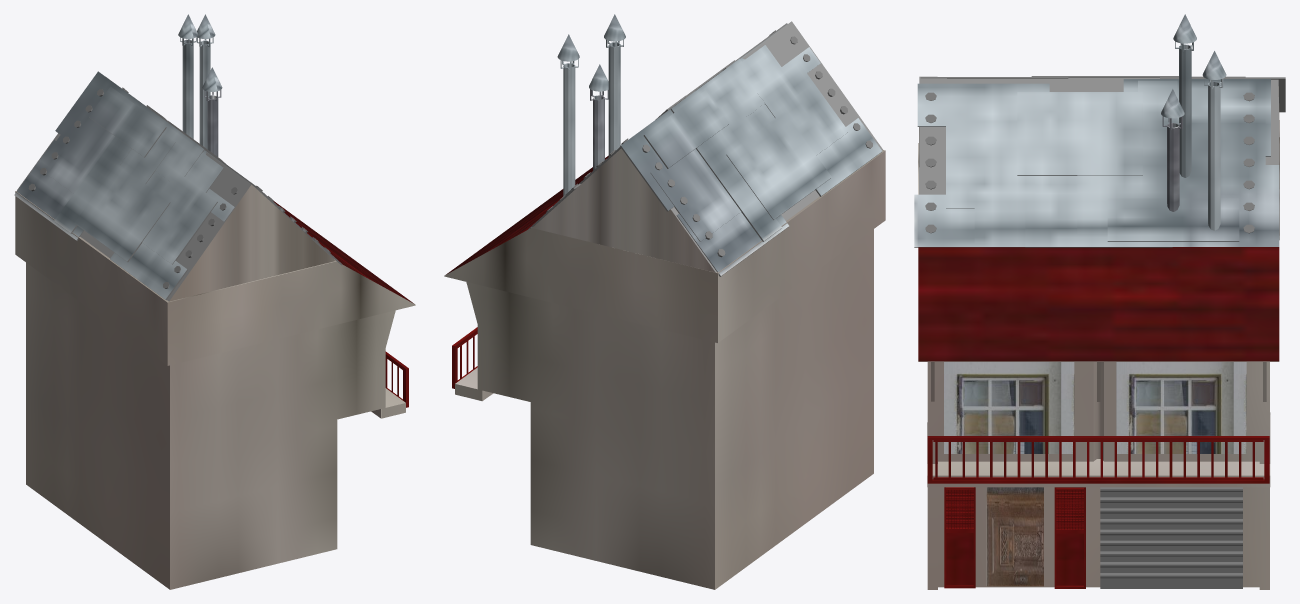
Rendered from Chineeshuis Rood.obj.
3 views of the same model, side by side, from view 1: azimuth 30°, elevation 25°; view 2: azimuth 150°, elevation 25°; view 3: azimuth 270°, elevation 25° (orthographic). The views are drawn at different scales.
Visible parts, largest first — view 1: pCube36, pCylinder336, polySurface245, polySurface246, polySurface242 pCylinder322, pCube37; view 2: pCube36, pCylinder336, polySurface246, polySurface245, polySurface242 pCylinder322, pCube37; view 3: pCube36, pCylinder336, pCube49, pPlane2, pPlane1, pCube37, pPlane3, polySurface249, polySurface253, polySurface246, polySurface245, polySurface242 pCylinder322.
Boxes of the visible parts, x1,y1,x2,y2 form: pCube36: [15, 191, 415, 589]; pCylinder336: [14, 71, 342, 301]; polySurface245: [180, 37, 196, 138]; polySurface246: [197, 37, 213, 148]; polySurface242 pCylinder322: [204, 90, 221, 156]; pCube37: [385, 351, 408, 407]; pCube36: [444, 150, 885, 589]; pCylinder336: [528, 21, 882, 276]; polySurface246: [560, 59, 578, 196]; polySurface245: [606, 39, 623, 156]; polySurface242 pCylinder322: [590, 89, 608, 170]; pCube37: [452, 327, 477, 388]; pCube36: [918, 143, 1279, 589]; pCylinder336: [914, 76, 1285, 247]; pCube49: [1100, 487, 1242, 588]; pPlane2: [1116, 362, 1246, 453]; pPlane1: [944, 362, 1074, 453]; pCube37: [927, 436, 1269, 483]; pPlane3: [986, 487, 1043, 586]; polySurface249: [1054, 487, 1085, 588]; polySurface253: [944, 487, 975, 588]; polySurface246: [1204, 78, 1223, 230]; polySurface245: [1175, 41, 1193, 177]; polySurface242 pCylinder322: [1162, 116, 1182, 211].
Bounding box in the file's own units: 50.73 × 90.34 × 54.96.
